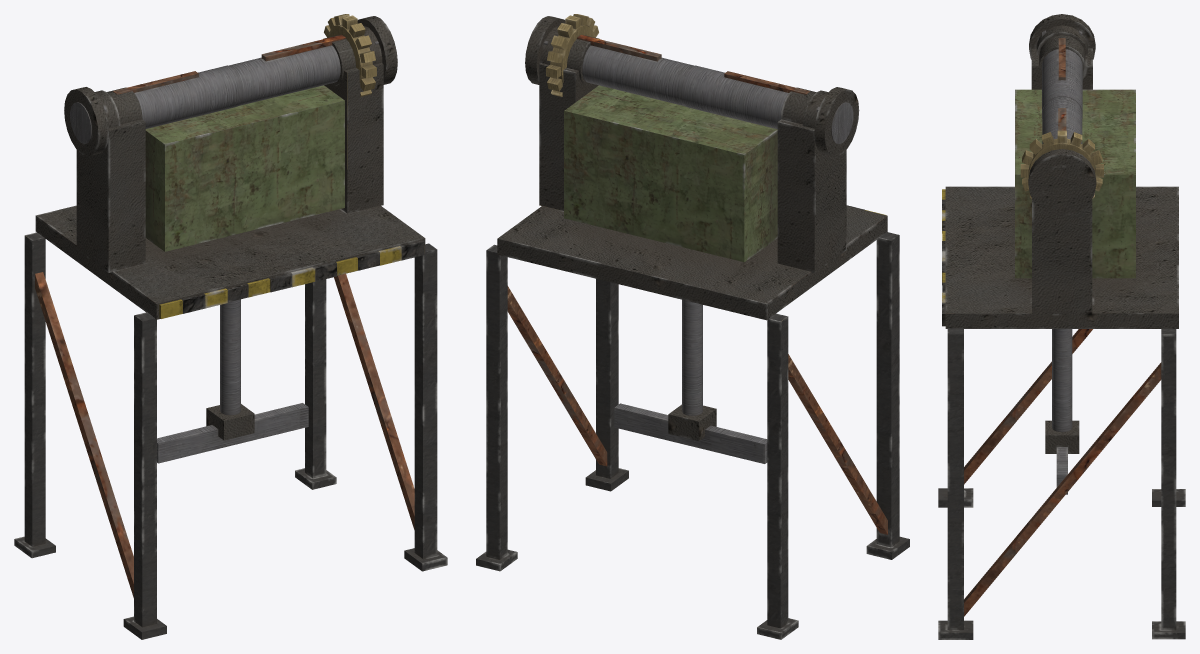
File: feBender_HD.fbx
The picture shows the model from 3 angles, left to right: view 1: azimuth 30°, elevation 25°; view 2: azimuth 150°, elevation 25°; view 3: azimuth 270°, elevation 25°; orthographic projection. The views are drawn at different scales.
Parts seen in each view (by area): view 1: feBender_Base, FeReach_Legs, FeSpin_DriveShaft, FePiston_InlinePunch; view 2: feBender_Base, FeReach_Legs, FeSpin_DriveShaft, FePiston_InlinePunch; view 3: feBender_Base, FeReach_Legs, FeSpin_DriveShaft, FePiston_InlinePunch.
Part boxes in pixels (x1,y1,x2,y2): feBender_Base: [35, 35, 425, 319]; FeReach_Legs: [14, 232, 447, 639]; FeSpin_DriveShaft: [64, 14, 397, 156]; FePiston_InlinePunch: [157, 299, 308, 463]; feBender_Base: [497, 35, 887, 320]; FeReach_Legs: [476, 232, 909, 639]; FeSpin_DriveShaft: [525, 14, 859, 156]; FePiston_InlinePunch: [614, 299, 767, 463]; feBender_Base: [942, 35, 1178, 328]; FeReach_Legs: [938, 328, 1185, 639]; FeSpin_DriveShaft: [1020, 14, 1103, 215]; FePiston_InlinePunch: [1045, 329, 1079, 494].
Bounding box in the file's own units: 1.02 × 1.63 × 0.743.
1 material, 1 textured.
